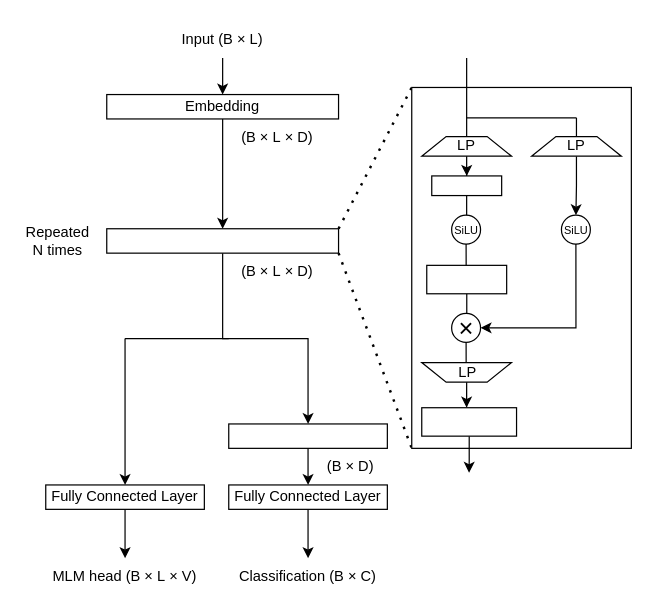
The diagram is 653 pixels wide and 615 high, and some of its shapes have lost their labels. Each missing label, with the box of its shape:
Average Pooling: (228, 423, 387, 448)
Convolution: (431, 175, 502, 196)
Mamba Block: (106, 228, 339, 253)
Normalization: (421, 407, 517, 436)
Selective SSM: (426, 264, 507, 294)
